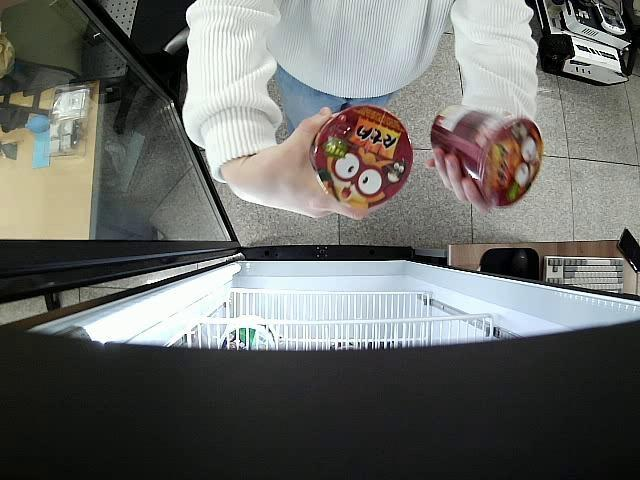06_nuguri_S: (430, 104, 543, 208), (310, 106, 414, 212)
